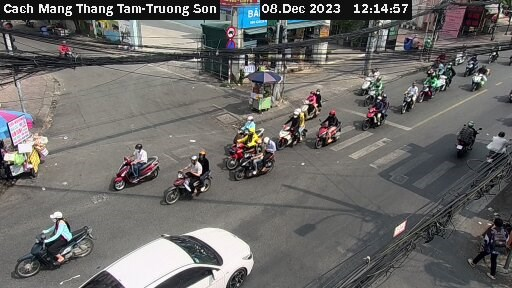car: (78, 226, 271, 288)
motorbike: (9, 208, 101, 269), (163, 151, 213, 201), (108, 147, 159, 187), (441, 116, 478, 157), (235, 147, 279, 181), (277, 112, 316, 150), (356, 98, 397, 131), (312, 110, 351, 143), (484, 127, 510, 168), (397, 84, 425, 117), (292, 89, 323, 116), (471, 63, 497, 95), (418, 72, 445, 101), (357, 67, 381, 88)
